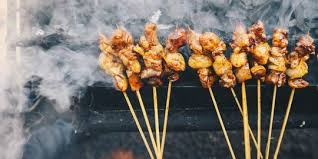sate: (85, 15, 318, 105)
